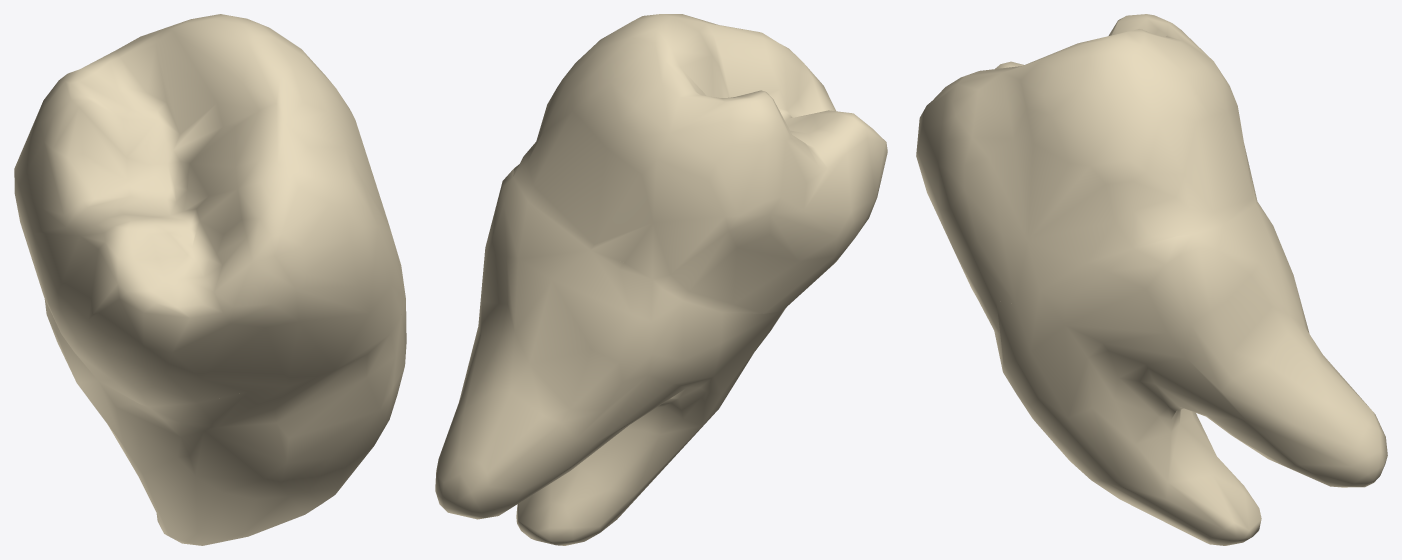
File: esqueleto-lower-second-molar-tooth-l.glb
3 views of the same model, side by side, from view 1: azimuth 30°, elevation 25°; view 2: azimuth 150°, elevation 25°; view 3: azimuth 270°, elevation 25° (orthographic). The views are drawn at different scales.
Parts seen in each view (by area): view 1: Lower second molar tooth.l; view 2: Lower second molar tooth.l; view 3: Lower second molar tooth.l.
Part boxes in pixels (bbox=[...]): Lower second molar tooth.l: bbox=[14, 14, 406, 545]; Lower second molar tooth.l: bbox=[435, 14, 887, 545]; Lower second molar tooth.l: bbox=[916, 14, 1387, 545].
Size of the model in its own units: 0.0118 by 0.0182 by 0.0161.
